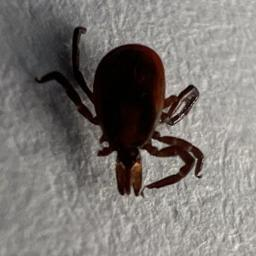Ixodes scapularis: (32, 33, 205, 198)
